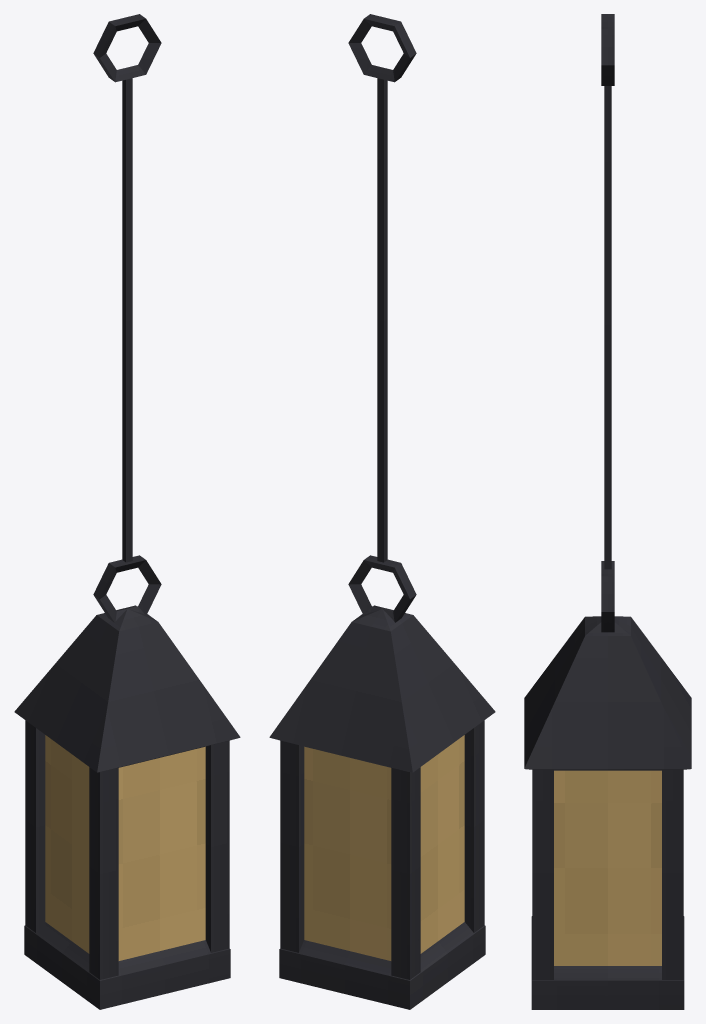
Rendered from hanging-lantern.glb.
3 renders of one model, left to right at view 1: azimuth 30°, elevation 25°; view 2: azimuth 150°, elevation 25°; view 3: azimuth 270°, elevation 25°, orthographic.
Parts seen in each view (by area): view 1: lantern; view 2: lantern; view 3: lantern.
Boxes of the visible parts, left/top/right/bottom form: lantern: left=14, top=14, right=240, bottom=1009; lantern: left=269, top=14, right=495, bottom=1009; lantern: left=524, top=14, right=691, bottom=1009.
Bounding box in the file's own units: 0.1556 × 0.979 × 0.1556.
Materials: 1 (1 with a texture image).
